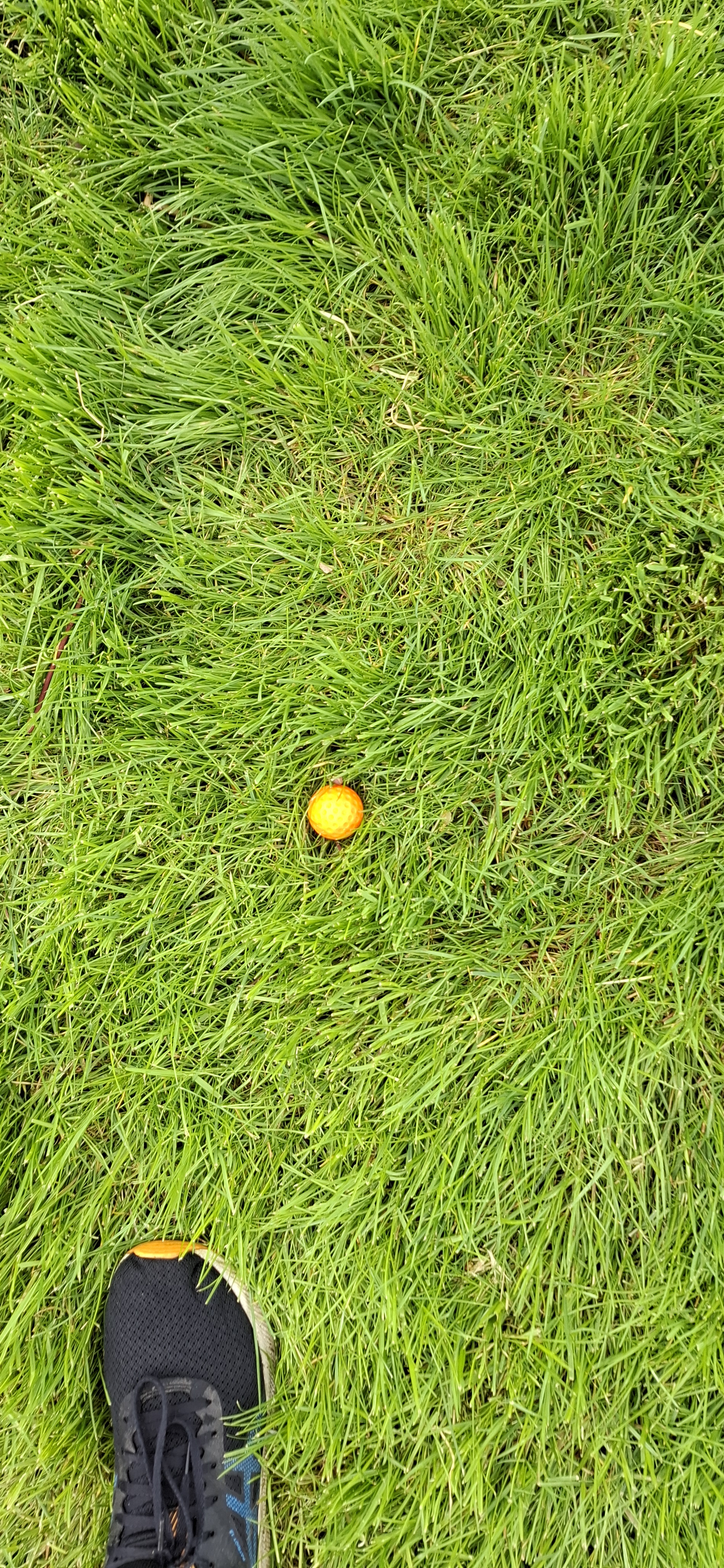ball: (362, 782, 388, 903)
